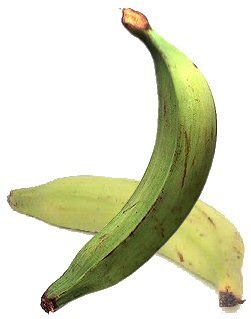banana: (37, 31, 218, 313), (7, 168, 246, 312)
